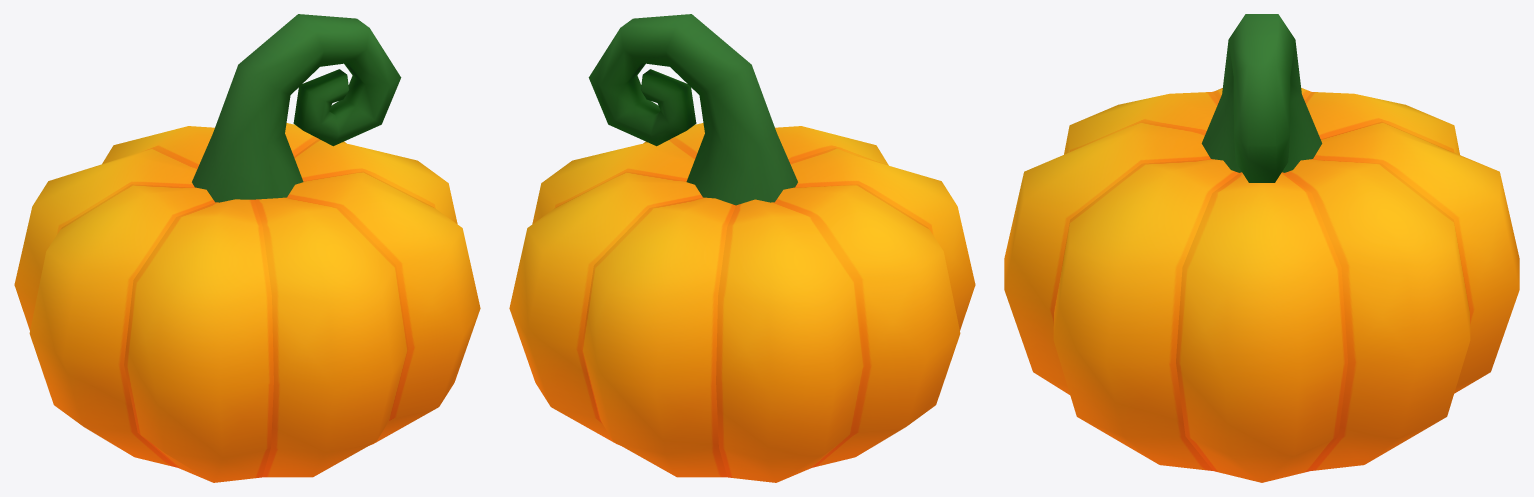
File: Food_Vegetables_Pumpkin.gltf
3 renders of one model, left to right at view 1: azimuth 30°, elevation 25°; view 2: azimuth 150°, elevation 25°; view 3: azimuth 270°, elevation 25°, orthographic. The views are drawn at different scales.
Parts seen in each view (by area): view 1: Food_Vegetables_Pumpkin; view 2: Food_Vegetables_Pumpkin; view 3: Food_Vegetables_Pumpkin.
Part boxes in pixels (x1,y1,x2,y2): Food_Vegetables_Pumpkin: (14,14,480,482); Food_Vegetables_Pumpkin: (509,14,975,482); Food_Vegetables_Pumpkin: (1004,14,1519,482).
Bounding box in the file's own units: 0.3086 × 0.2947 × 0.3086.
1 material, 1 textured.
